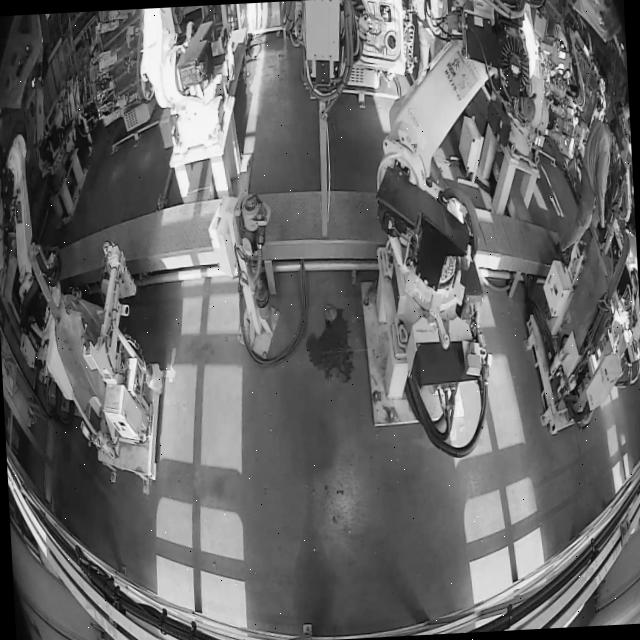Person: (552, 117, 620, 255)
